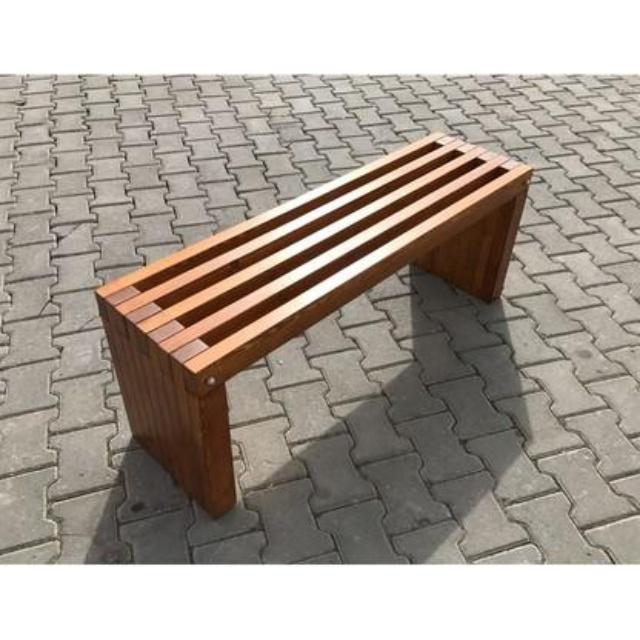obstacle: (91, 105, 529, 525)
